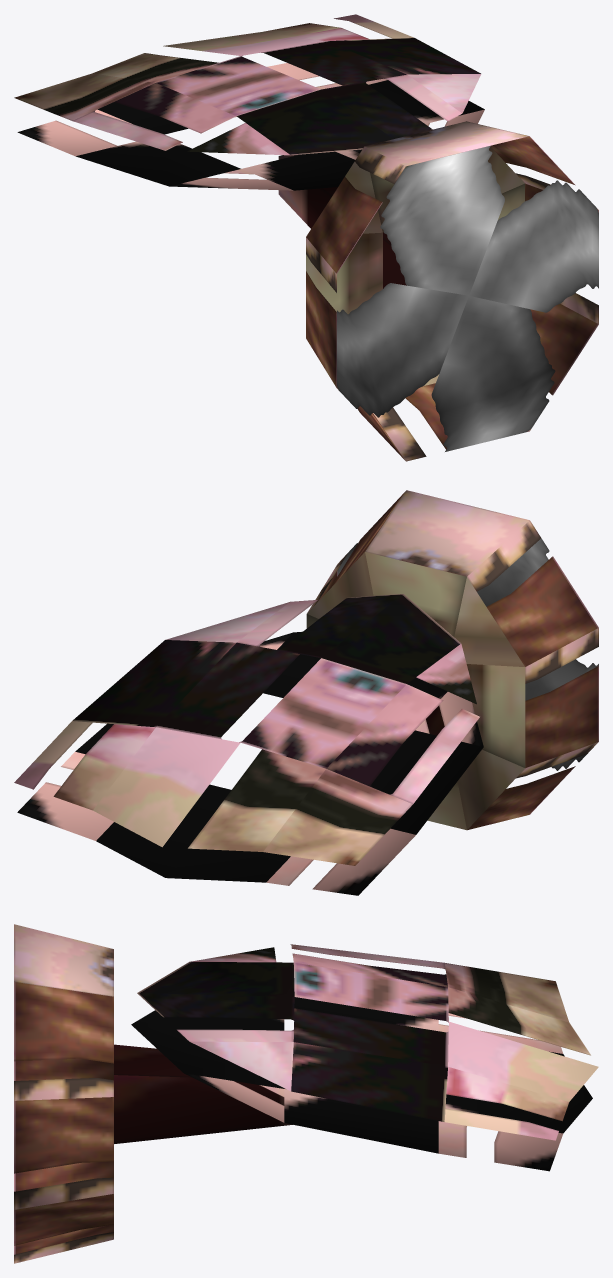
3 renders of one model, top to bottom at view 1: azimuth 30°, elevation 25°; view 2: azimuth 150°, elevation 25°; view 3: azimuth 270°, elevation 25°, orthographic. The views are drawn at different scales.
Visible parts, largest first — view 1: T1L1M009_4; view 2: T1L1M009_4; view 3: T1L1M009_4.
Boxes of the visible parts, box(x1,y1,x2,y2) form: T1L1M009_4: box(14, 14, 598, 461); T1L1M009_4: box(14, 490, 598, 895); T1L1M009_4: box(14, 924, 598, 1263).
Bounding box in the file's own units: 0.4346 × 0.3584 × 0.6738.
